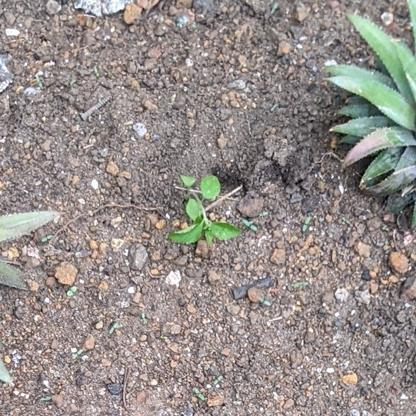pineapple: (323, 13, 416, 218)
weed: (164, 172, 241, 245)
